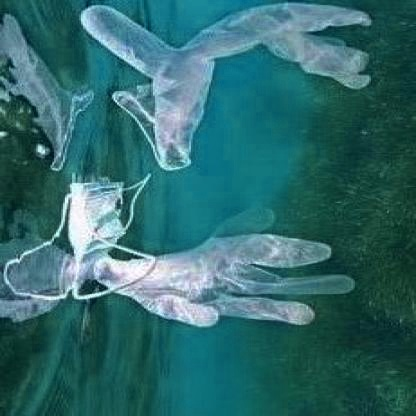Mask: (67, 179, 160, 299)
glove: (68, 0, 386, 166), (87, 210, 350, 342)
